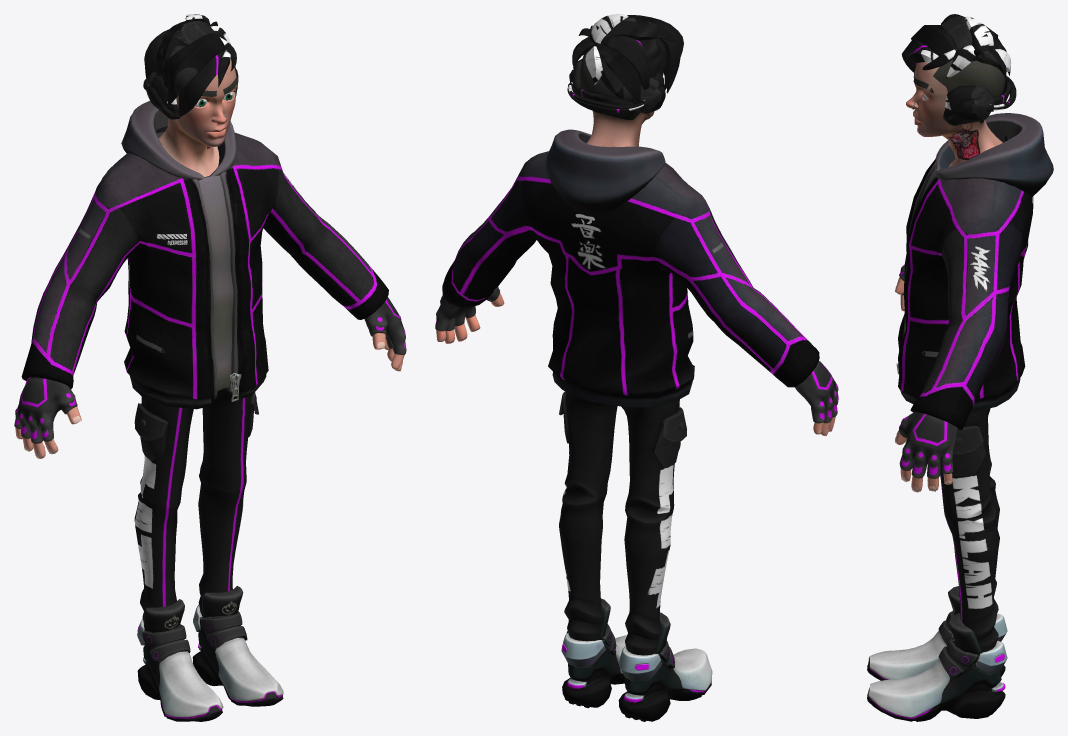
File: flexin_personaje-_litkillah_con_textura.glb
3 views of the same model, side by side, from view 1: azimuth 30°, elevation 25°; view 2: azimuth 150°, elevation 25°; view 3: azimuth 270°, elevation 25° (orthographic). The views are drawn at different scales.
Visible parts, largest first — view 1: face_flexin; view 2: face_flexin; view 3: face_flexin.
Part boxes in pixels (bbox=[...]): face_flexin: bbox=[14, 14, 406, 721]; face_flexin: bbox=[435, 14, 838, 721]; face_flexin: bbox=[867, 14, 1053, 721].
Size of the model in its own units: 111 by 188 by 46.85.
5 materials, 5 textured.
